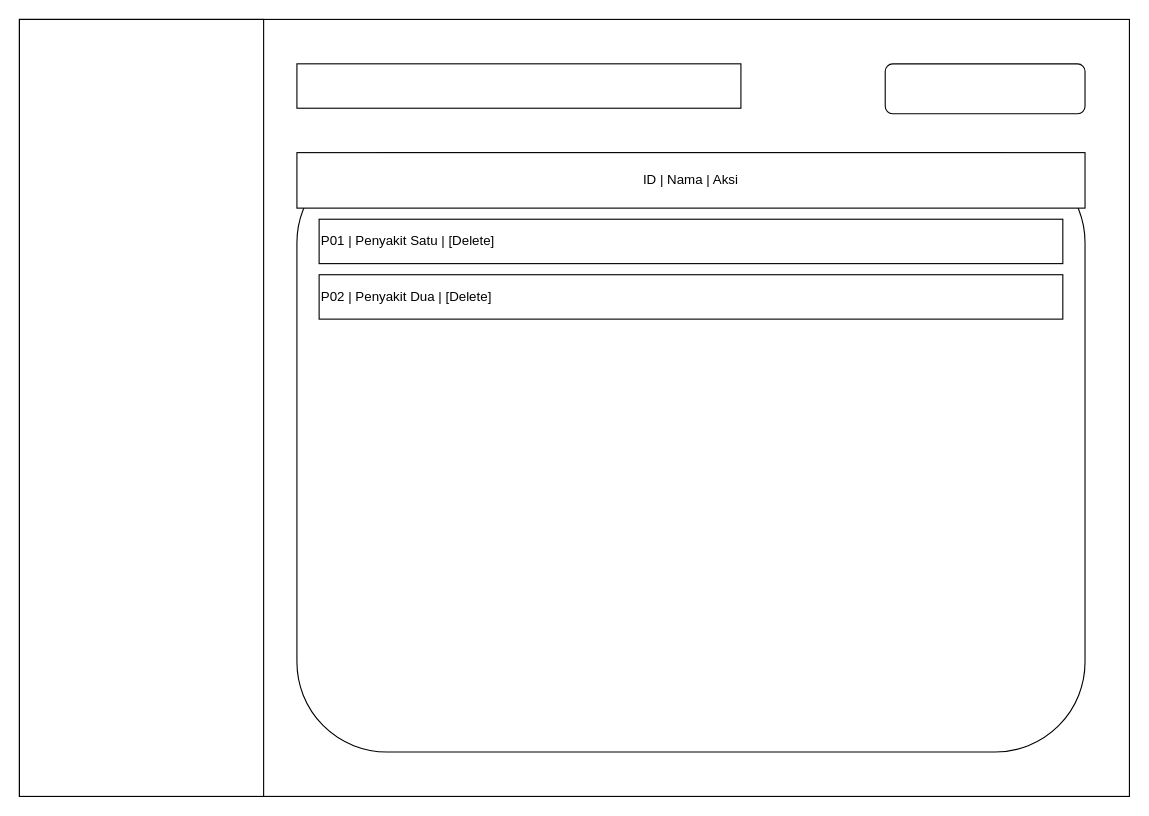
This 1149x816 diagram has some shape labels left out. Each missing label, with the box of its shape:
+ Tambah Penyakit: (884, 63, 1085, 114)
Kelola Penyakit: (296, 63, 741, 108)
